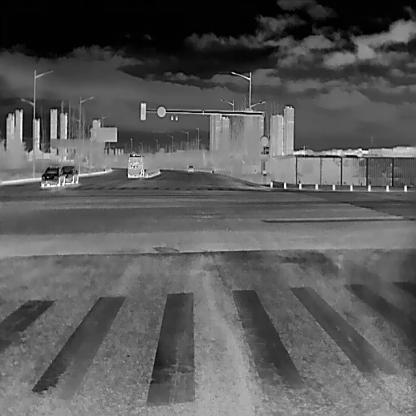car: (40, 165, 65, 187), (61, 165, 78, 184), (186, 164, 194, 172)
truck: (126, 153, 143, 177)
